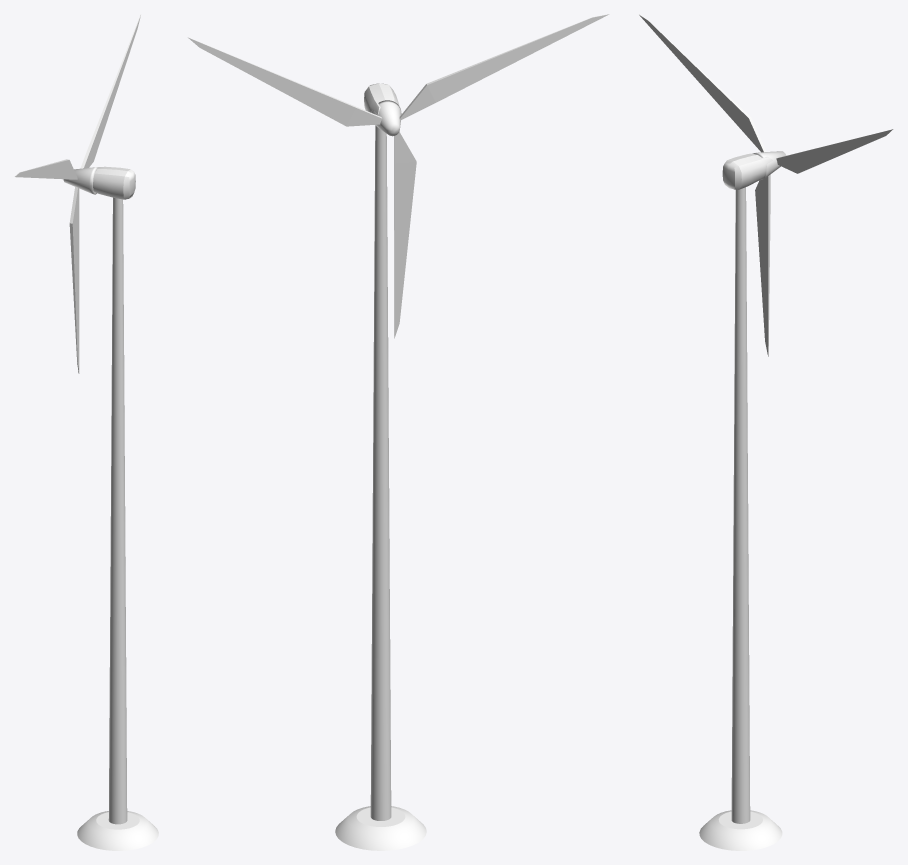
Rendered from Mill1.glb.
3 renders of one model, left to right at view 1: azimuth 30°, elevation 25°; view 2: azimuth 150°, elevation 25°; view 3: azimuth 270°, elevation 25°, orthographic. The views are drawn at different scales.
Visible parts, largest first — view 1: Cylinder.002, Plane.002; view 2: Cylinder.002, Plane.002; view 3: Cylinder.002, Plane.002.
Part boxes in pixels (x1=…): Cylinder.002: x1=77, y1=166, x2=158, y2=850; Plane.002: x1=14, y1=14, x2=141, y2=373; Cylinder.002: x1=335, y1=83, x2=426, y2=850; Plane.002: x1=187, y1=14, x2=609, y2=338; Cylinder.002: x1=699, y1=153, x2=782, y2=850; Plane.002: x1=638, y1=14, x2=893, y2=356.
Size of what is drawn, in the model's own units: 5.18 by 14.52 by 4.46.
1 material, 1 textured.
